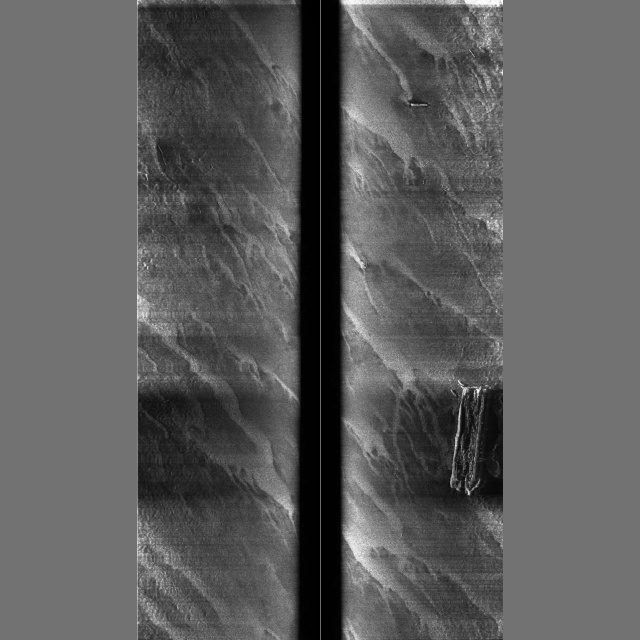Shipwreck: (394, 103, 491, 540)
